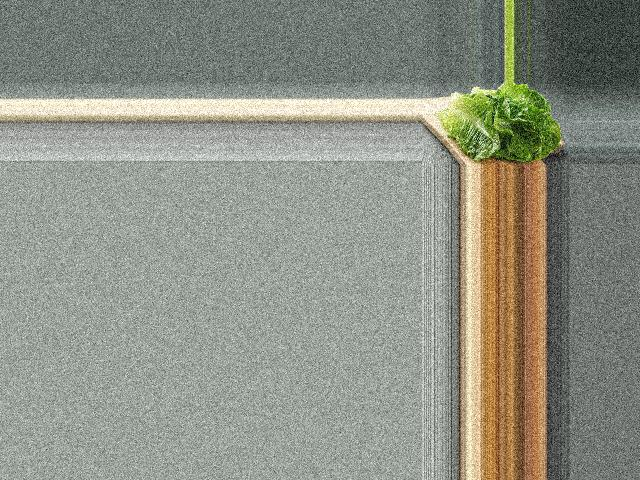lettuce: (440, 83, 564, 165)
